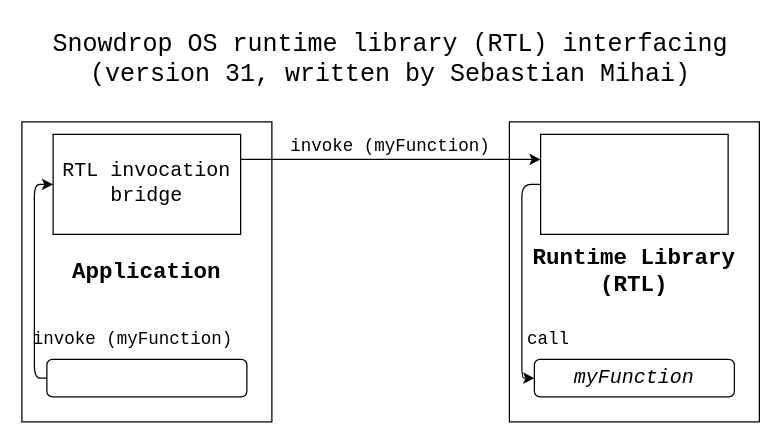
The diagram is 781 pixels wide and 444 high, and some of its shapes have lost their labels. The centre of each missing label's shape, as x and y in pixels:
consumer code: [146,377]
RTL base: [633,183]
